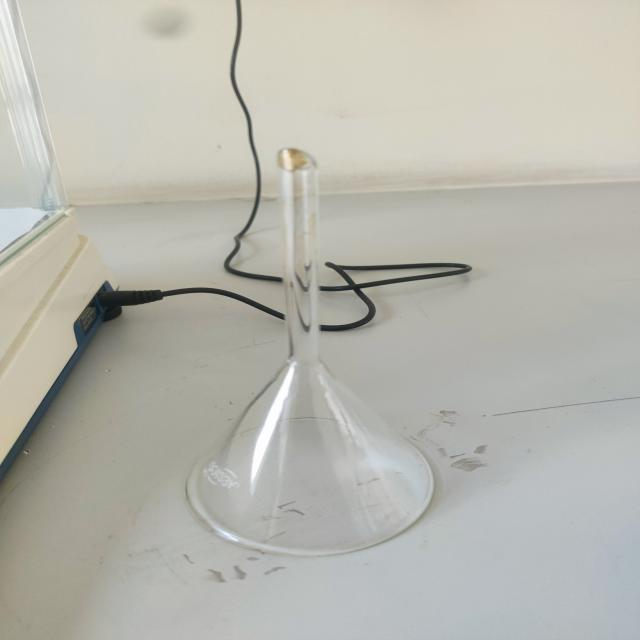Funnel: (163, 128, 482, 592)
